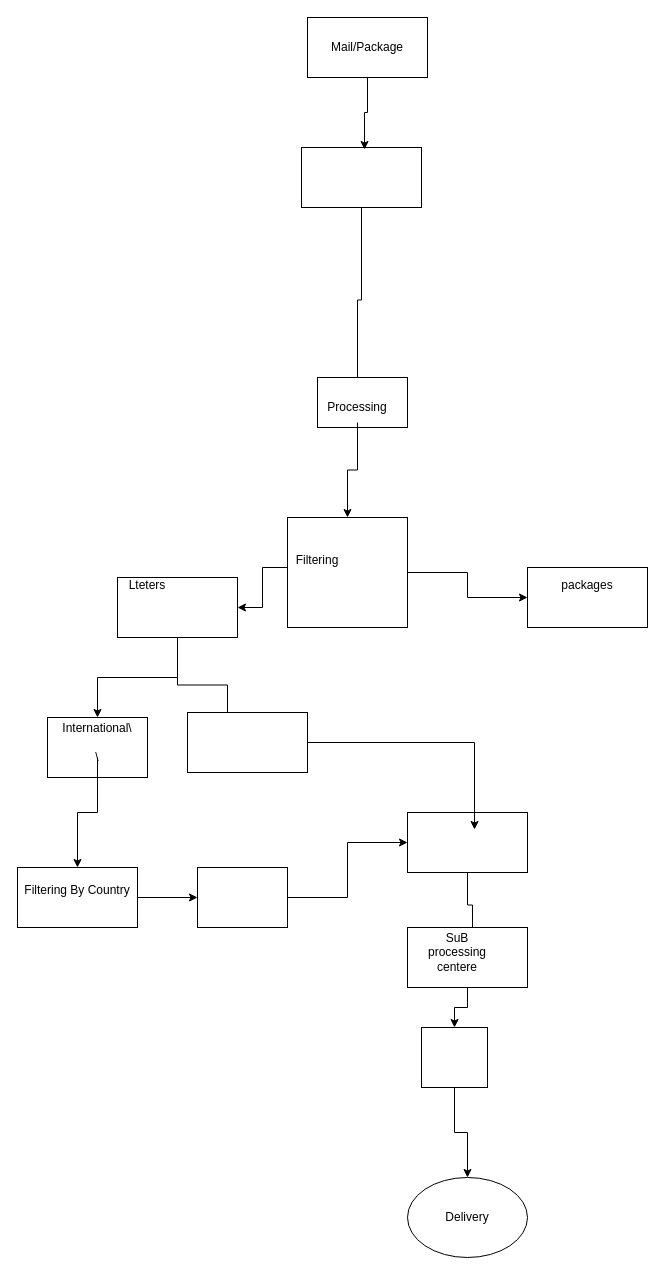
The diagram is 665 pixels wide and 1275 high, and some of its shapes have lost their labels. Here are the shapes that lost their labels. From the top down, the centre of each, then its label:
(x=361, y=177): Pick up
(x=247, y=742): Natianoal
(x=467, y=842): Filtering by state
(x=242, y=897): Shipment
(x=454, y=1057): City post station
